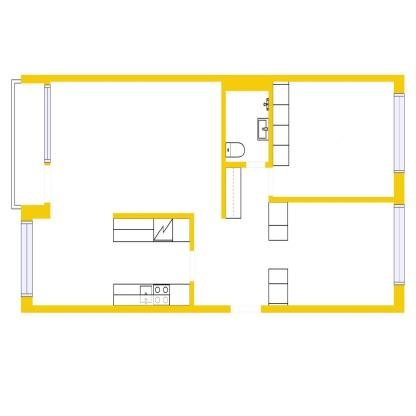door: (43, 164, 51, 203), (230, 306, 261, 312), (268, 166, 274, 196), (190, 251, 195, 282), (248, 161, 266, 167)
window: (21, 221, 33, 296), (394, 205, 405, 285), (393, 93, 404, 170), (44, 85, 51, 160)
zone: (15, 83, 393, 305), (274, 83, 393, 196), (224, 88, 268, 162)
